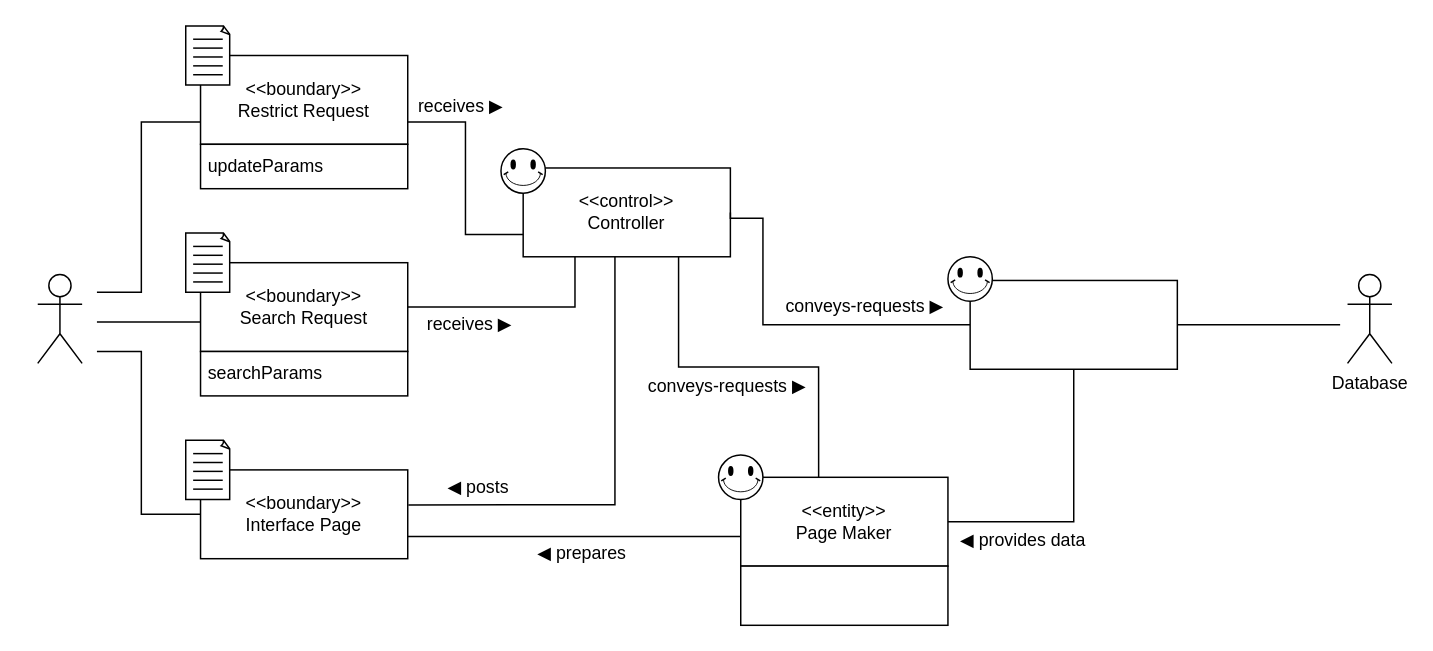
The diagram is 1433 pixels wide and 651 high, and some of its shapes have lost their labels. The centre of each missing label's shape, as x and y in pixels:
<<boundary>> Database Connection: (1073,324)
Manager: (59,318)
searchParams requestResults: (843,595)
